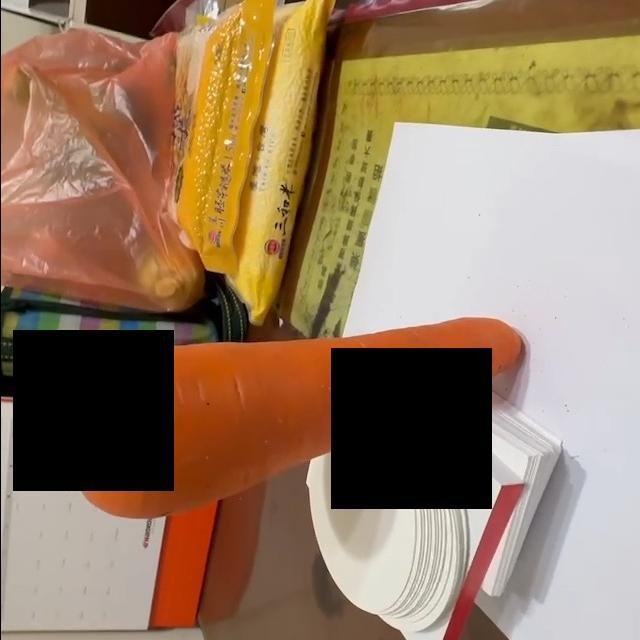carrot: (25, 317, 530, 521)
